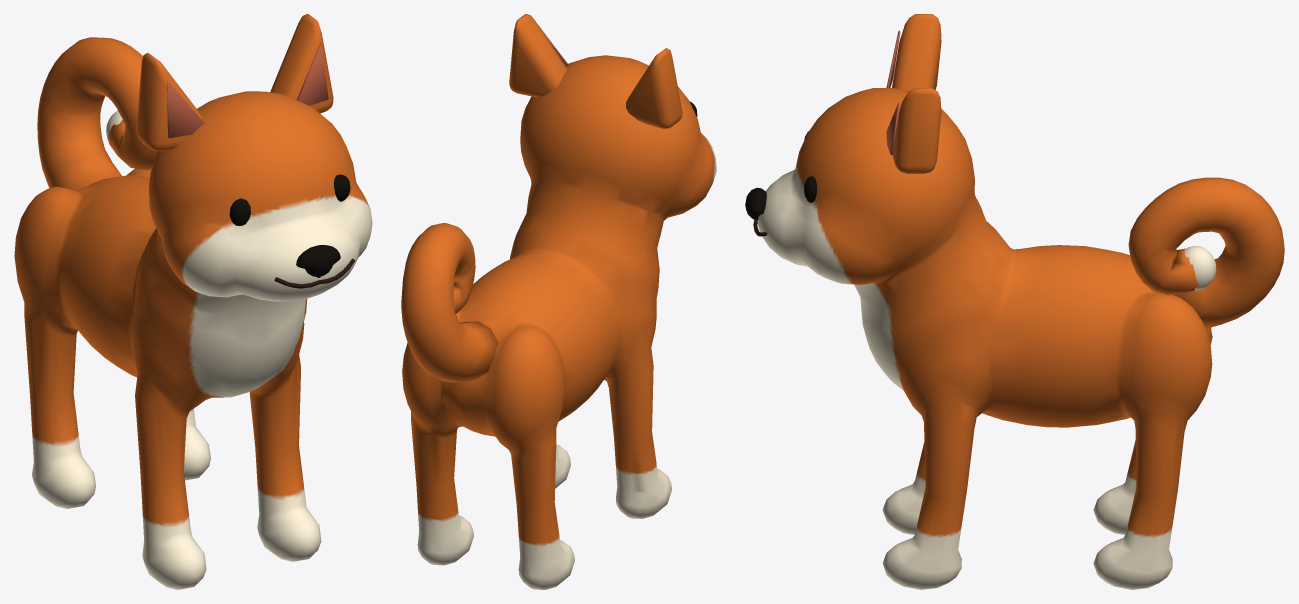
The model's file is shiba.fbx.
The picture shows the model from 3 angles, left to right: view 1: azimuth 30°, elevation 25°; view 2: azimuth 150°, elevation 25°; view 3: azimuth 270°, elevation 25°; orthographic projection. The views are drawn at different scales.
Parts seen in each view (by area): view 1: shiba; view 2: shiba; view 3: shiba.
Part boxes in pixels (<box>): shiba: <box>14,14,372,589</box>; shiba: <box>401,14,716,589</box>; shiba: <box>745,14,1284,589</box>.
Bounding box in the file's own units: 37.27 × 100 × 96.02.
Materials: 1 (1 with a texture image).
